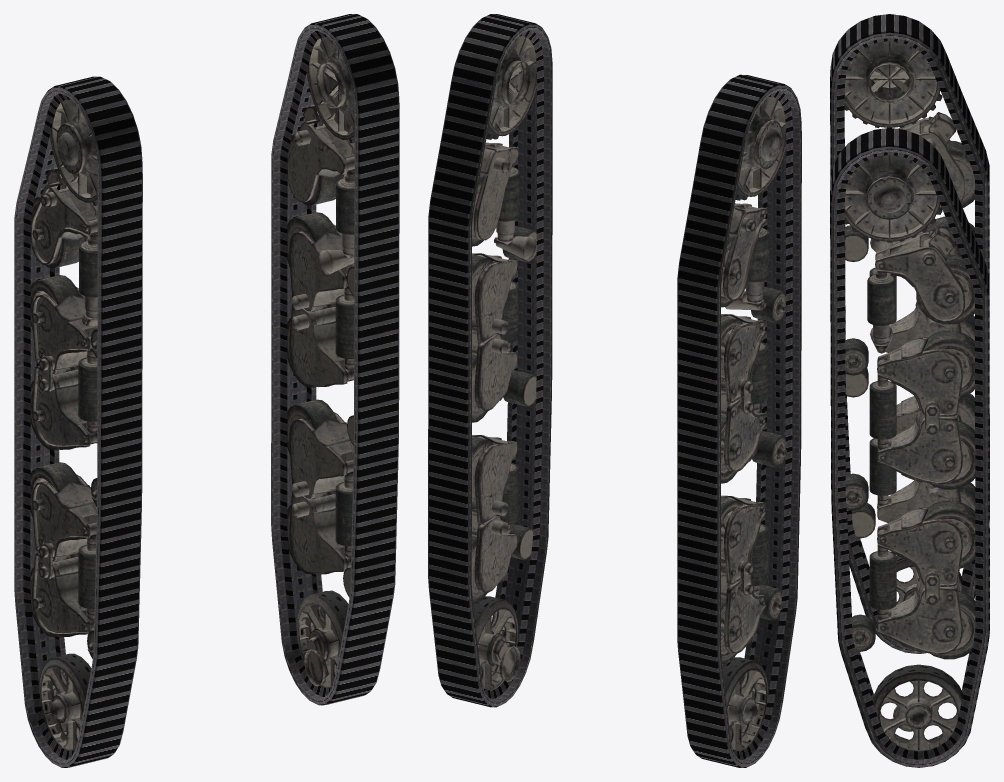
File: Chassis.glb
3 views of the same model, side by side, from view 1: azimuth 30°, elevation 25°; view 2: azimuth 150°, elevation 25°; view 3: azimuth 270°, elevation 25° (orthographic). The views are drawn at different scales.
Parts seen in each view (by area): view 1: set_0_group_0, set_1_group_0, set_3_group_0, set_2_group_0; view 2: set_0_group_0, set_1_group_0, set_2_group_0, set_3_group_0; view 3: set_3_group_0, set_1_group_0, set_2_group_0, set_0_group_0.
Part boxes in pixels (bbox=[...]): set_0_group_0: bbox=[14, 76, 142, 767]; set_1_group_0: bbox=[271, 14, 399, 705]; set_3_group_0: bbox=[287, 37, 354, 687]; set_2_group_0: bbox=[30, 99, 97, 750]; set_0_group_0: bbox=[677, 74, 801, 767]; set_1_group_0: bbox=[428, 14, 552, 707]; set_2_group_0: bbox=[721, 97, 787, 751]; set_3_group_0: bbox=[471, 36, 536, 690]; set_3_group_0: bbox=[844, 155, 975, 751]; set_1_group_0: bbox=[830, 128, 989, 767]; set_2_group_0: bbox=[844, 41, 975, 609]; set_0_group_0: bbox=[830, 14, 989, 653].
Size of the model in its own units: 1.89 by 4.02 by 0.9355.
4 materials, 4 textured.
